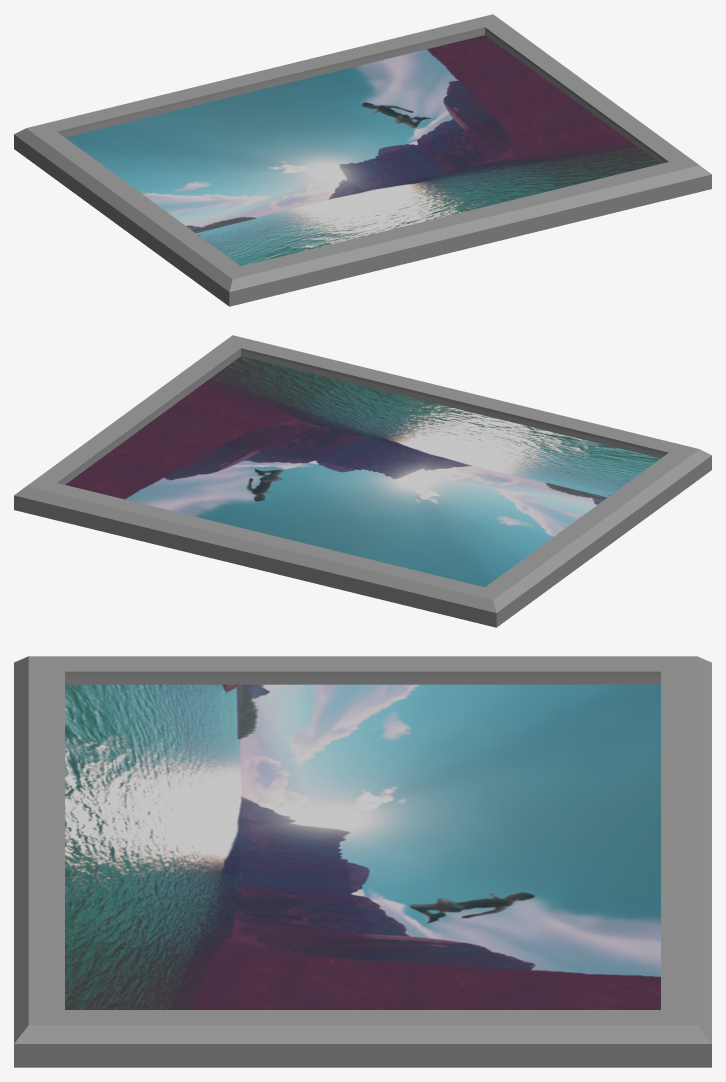
File: poster frame 3.FBX
The picture shows the model from 3 angles, top to bottom: view 1: azimuth 30°, elevation 25°; view 2: azimuth 150°, elevation 25°; view 3: azimuth 270°, elevation 25°; orthographic projection. The views are drawn at different scales.
Parts seen in each view (by area): view 1: Box003; view 2: Box003; view 3: Box003.
Boxes of the visible parts, bbox=[...] form: Box003: bbox=[14, 14, 711, 306]; Box003: bbox=[14, 335, 711, 627]; Box003: bbox=[14, 656, 711, 1067].
Bounding box in the file's own units: 17.73 × 0.7823 × 13.71.
